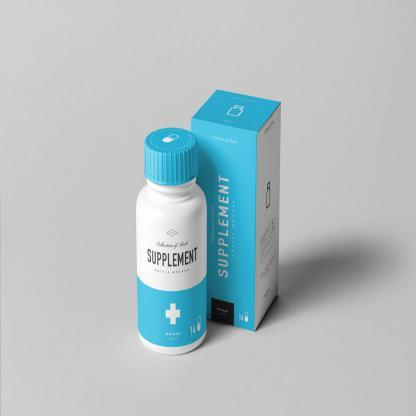jar: (136, 127, 207, 354)
